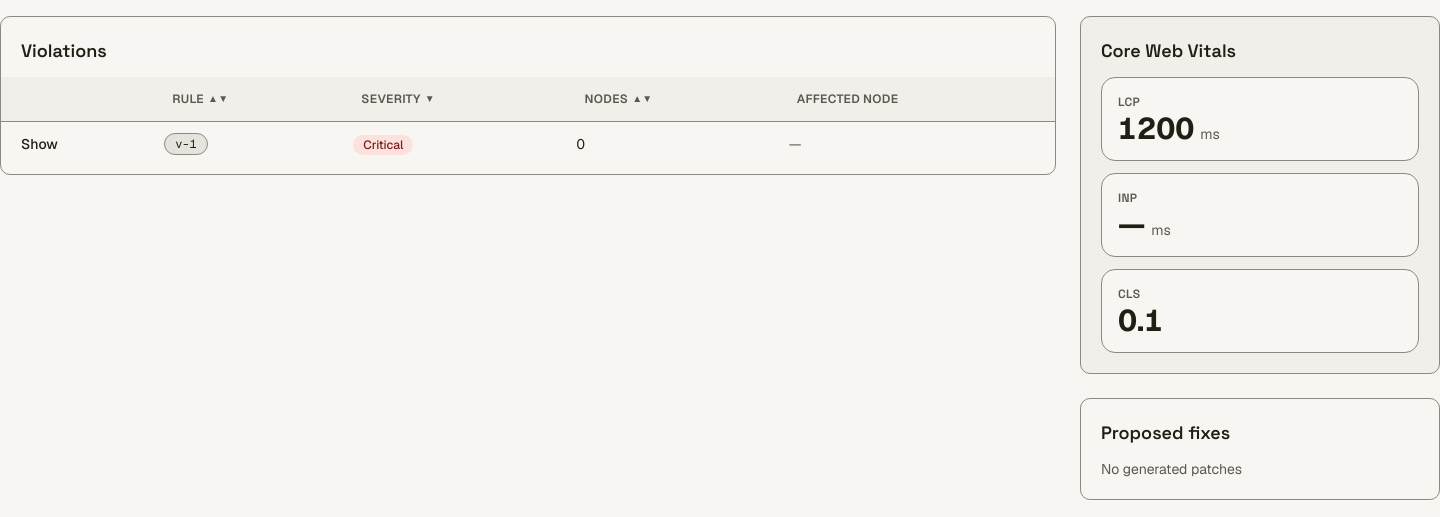
DeveloperView › no helpUrl: the expanded detail renders the description without a link
Click the button with aria-label "Show details for v-1" at (39, 144), box x1=13 y1=122 x2=66 y2=166
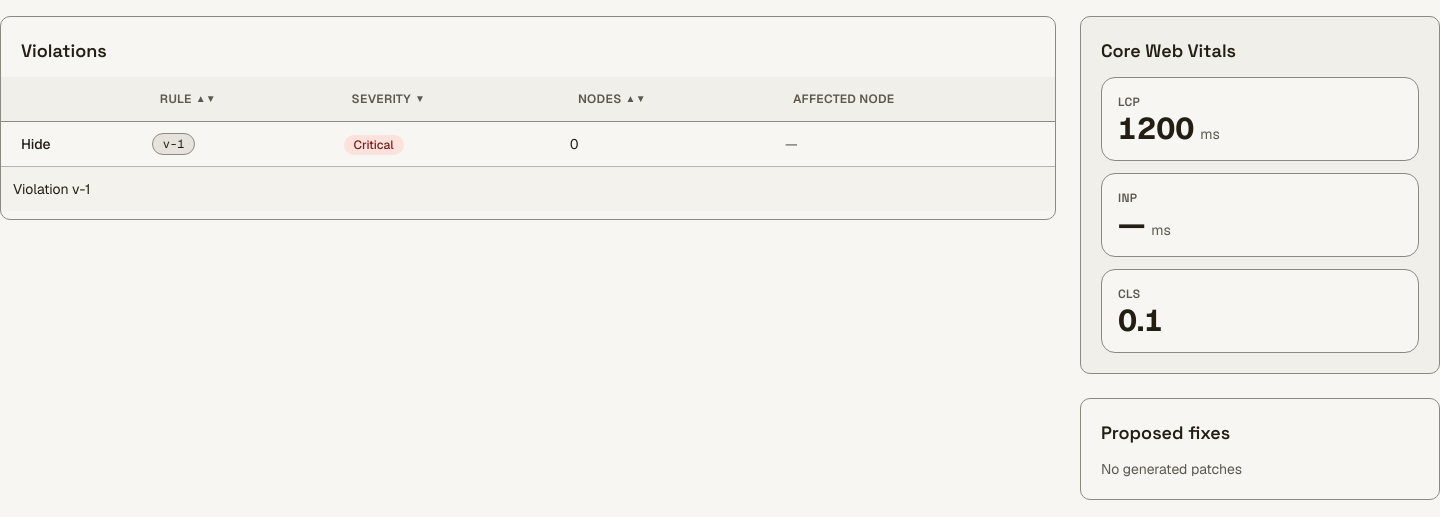
Expected: the text "Violation v-1" is shown, x1=13 y1=180 x2=90 y2=198
